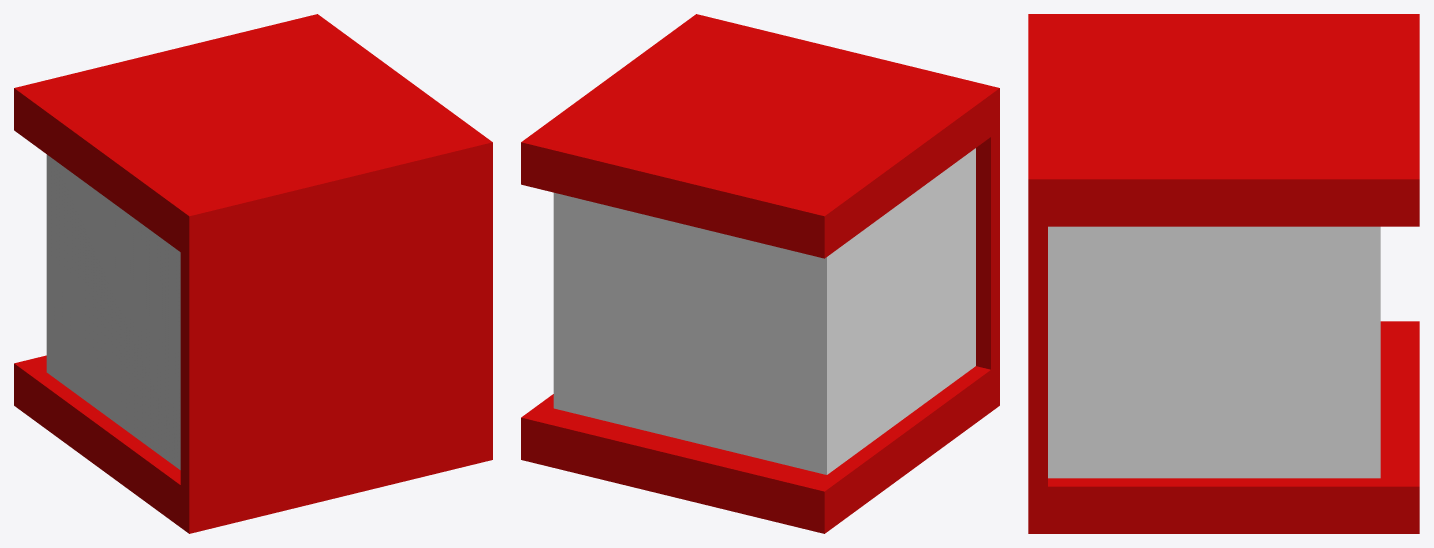
Rendered from Book.fbx.
The picture shows the model from 3 angles, left to right: view 1: azimuth 30°, elevation 25°; view 2: azimuth 150°, elevation 25°; view 3: azimuth 270°, elevation 25°; orthographic projection. The views are drawn at different scales.
Parts seen in each view (by area): view 1: Cube; view 2: Cube; view 3: Cube.
Part boxes in pixels (left/top/right/bottom): Cube: left=14, top=14, right=492, bottom=533; Cube: left=521, top=14, right=999, bottom=533; Cube: left=1028, top=14, right=1419, bottom=533.
Bounding box in the file's own units: 1 × 1 × 1.
